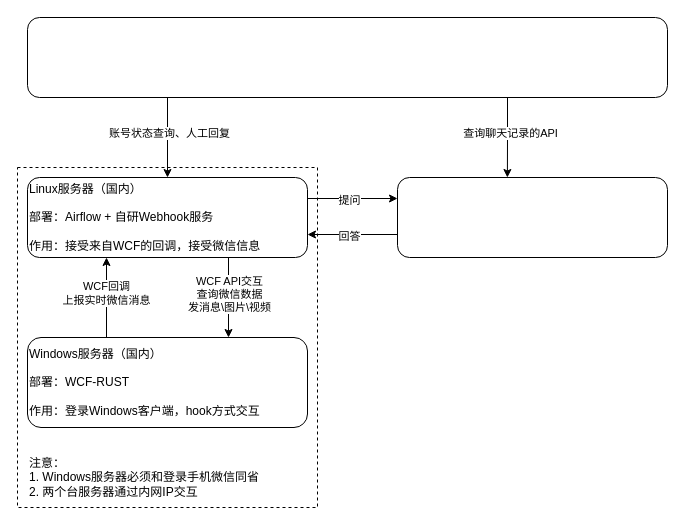
Some shapes in this 685 by 525 pixel diagram are drawn without their labels. The box of each missing label's shape, as (x1, y1, x2, y2) in pixels:
Linux服务器（国内） 部署：Web服务 作用：前端页面，运营人员交互: (26, 16, 668, 98)
Linux服务器（海外） 部署：Dify 作用：接入大模型、知识库、智能AGENT流程: (396, 176, 668, 258)
